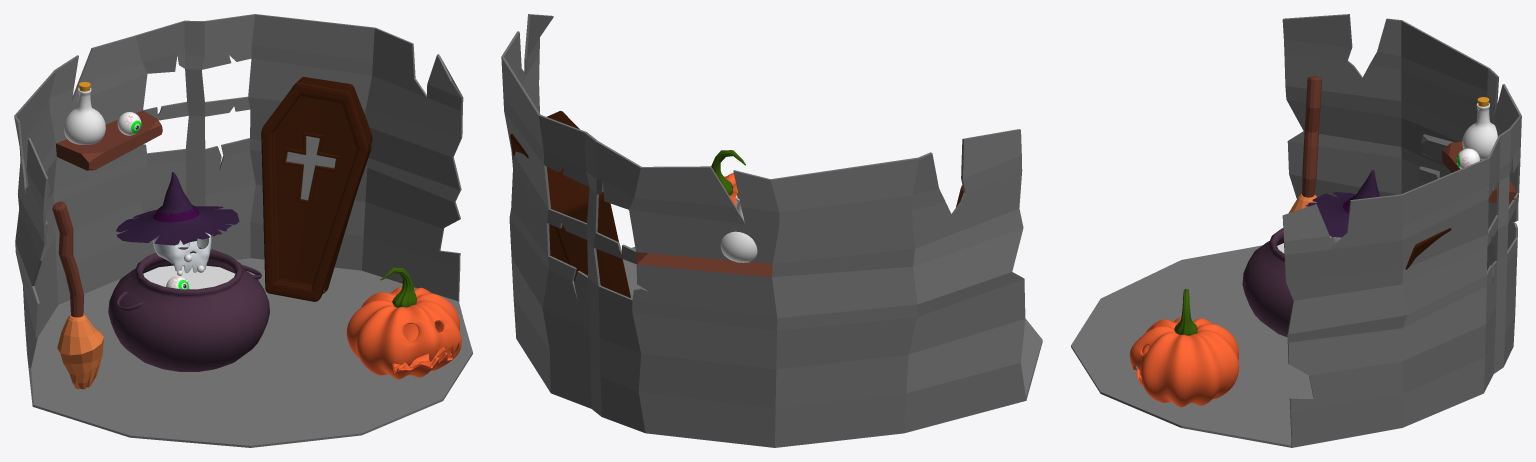
File: bottle_modeling.fbx
The picture shows the model from 3 angles, left to right: view 1: azimuth 30°, elevation 25°; view 2: azimuth 150°, elevation 25°; view 3: azimuth 270°, elevation 25°; orthographic projection. The views are drawn at different scales.
Parts seen in each view (by area): view 1: house, Cube.001, jar, pumkin, bloom, hat, bottle, jarliquid, Cube.002, Cube, pumkinstem, eye; view 2: house, Cube, Cube.001, bottle; view 3: house, pumkin, jar, bloom, hat, bottle, pumkinstem.
Part boxes in pixels (bbox=[...]): house: bbox=[14, 14, 472, 447]; Cube.001: bbox=[261, 79, 371, 301]; jar: bbox=[108, 247, 269, 371]; pumkin: bbox=[346, 287, 461, 379]; bloom: bbox=[52, 201, 103, 389]; hat: bbox=[116, 172, 239, 245]; bottle: bbox=[64, 87, 105, 144]; jarliquid: bbox=[143, 265, 235, 289]; Cube.002: bbox=[152, 232, 211, 273]; Cube: bbox=[292, 77, 372, 294]; pumkinstem: bbox=[380, 267, 416, 307]; eye: bbox=[117, 112, 141, 135]; house: bbox=[501, 14, 1042, 447]; Cube: bbox=[510, 134, 611, 289]; Cube.001: bbox=[547, 111, 630, 297]; bottle: bbox=[720, 195, 757, 262]; house: bbox=[1071, 14, 1521, 447]; pumkin: bbox=[1129, 317, 1239, 407]; jar: bbox=[1242, 228, 1292, 337]; bloom: bbox=[1289, 76, 1321, 212]; hat: bbox=[1305, 169, 1379, 237]; bottle: bbox=[1462, 103, 1497, 160]; pumkinstem: bbox=[1174, 289, 1197, 335].
Size of the model in its own units: 728 by 395 by 670.
